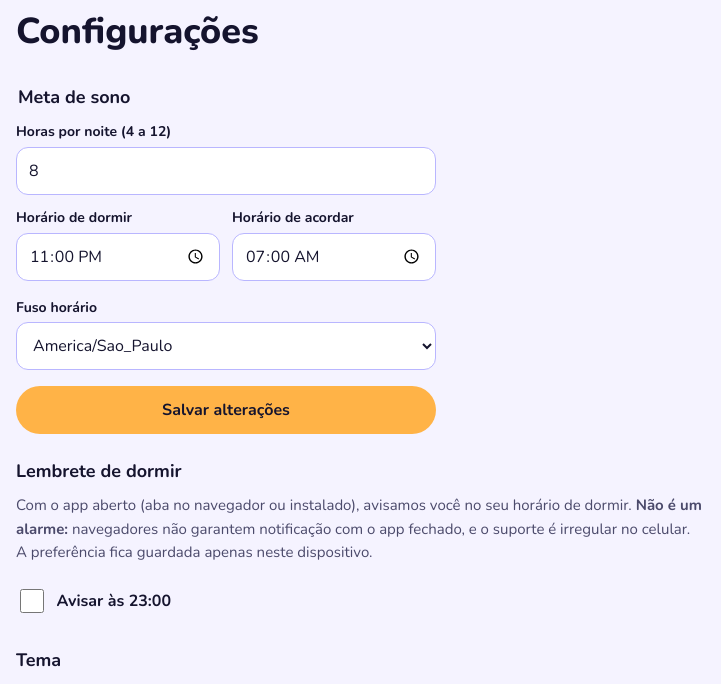
tela de Configurações › salva o fuso alterado
Select "Europe/Lisbon" in the dropdown labelled "Fuso horário" at (226, 346), box [16,322,436,370]
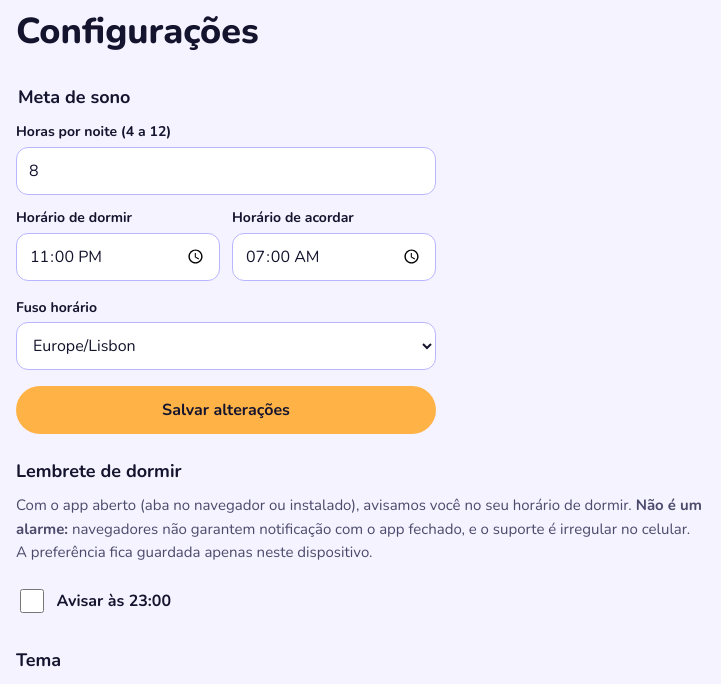
Click the button "Salvar alterações" at (226, 410), box [16,386,436,434]
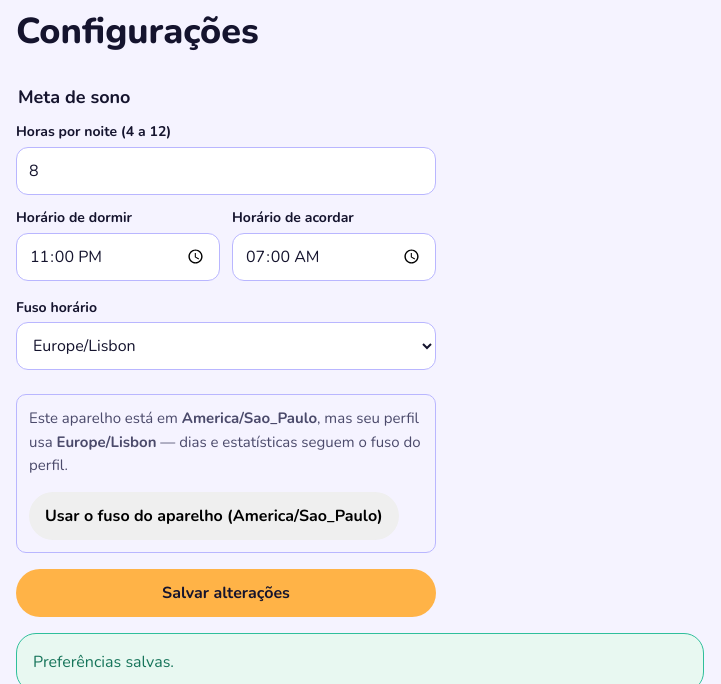
Expected: the button "Usar o fuso do aparelho (America/Sao_Paulo)" is shown, [29,492,399,540]
